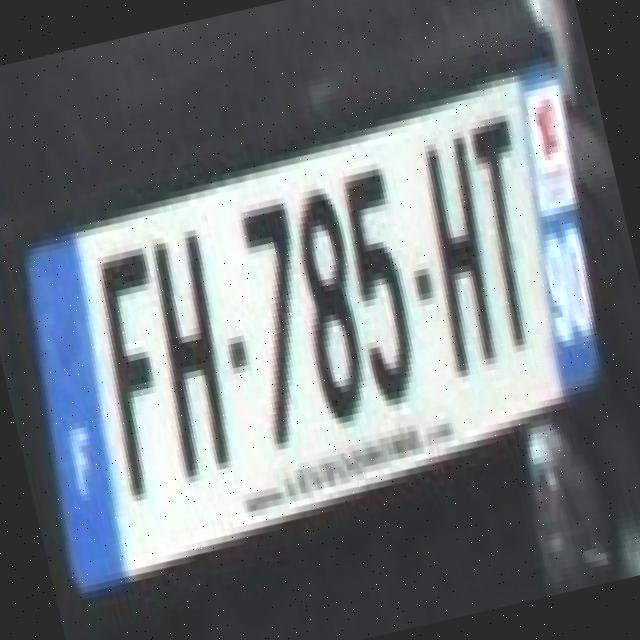EU: (24, 68, 605, 589)
France: (25, 234, 124, 590)
